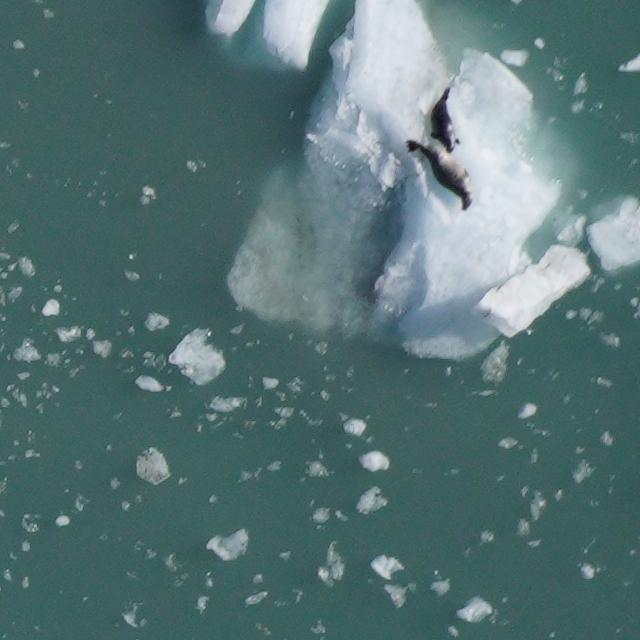seal: (404, 137, 480, 216), (427, 83, 466, 156)
